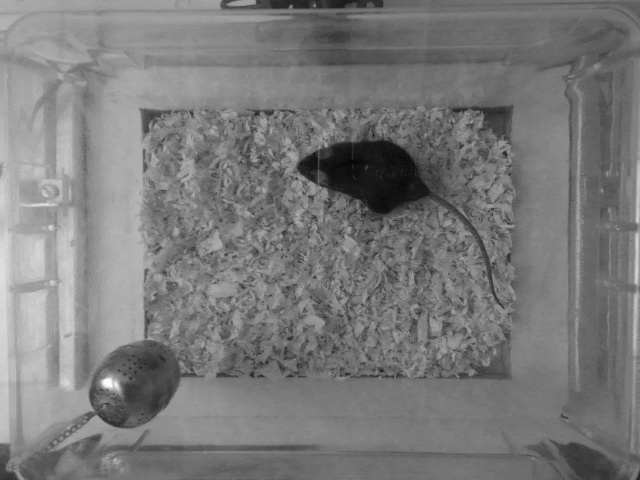mice: (291, 139, 506, 312)
